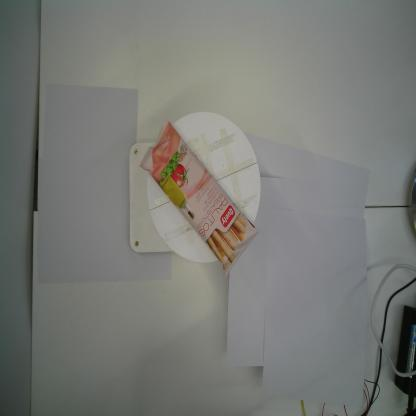Dessert: (139, 119, 259, 279)
